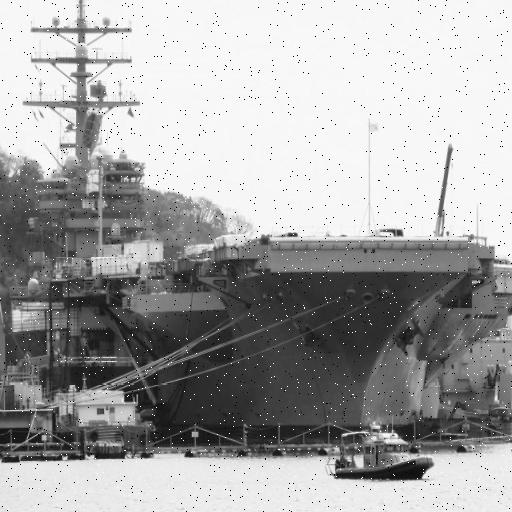Portanaves: (16, 1, 512, 433)
